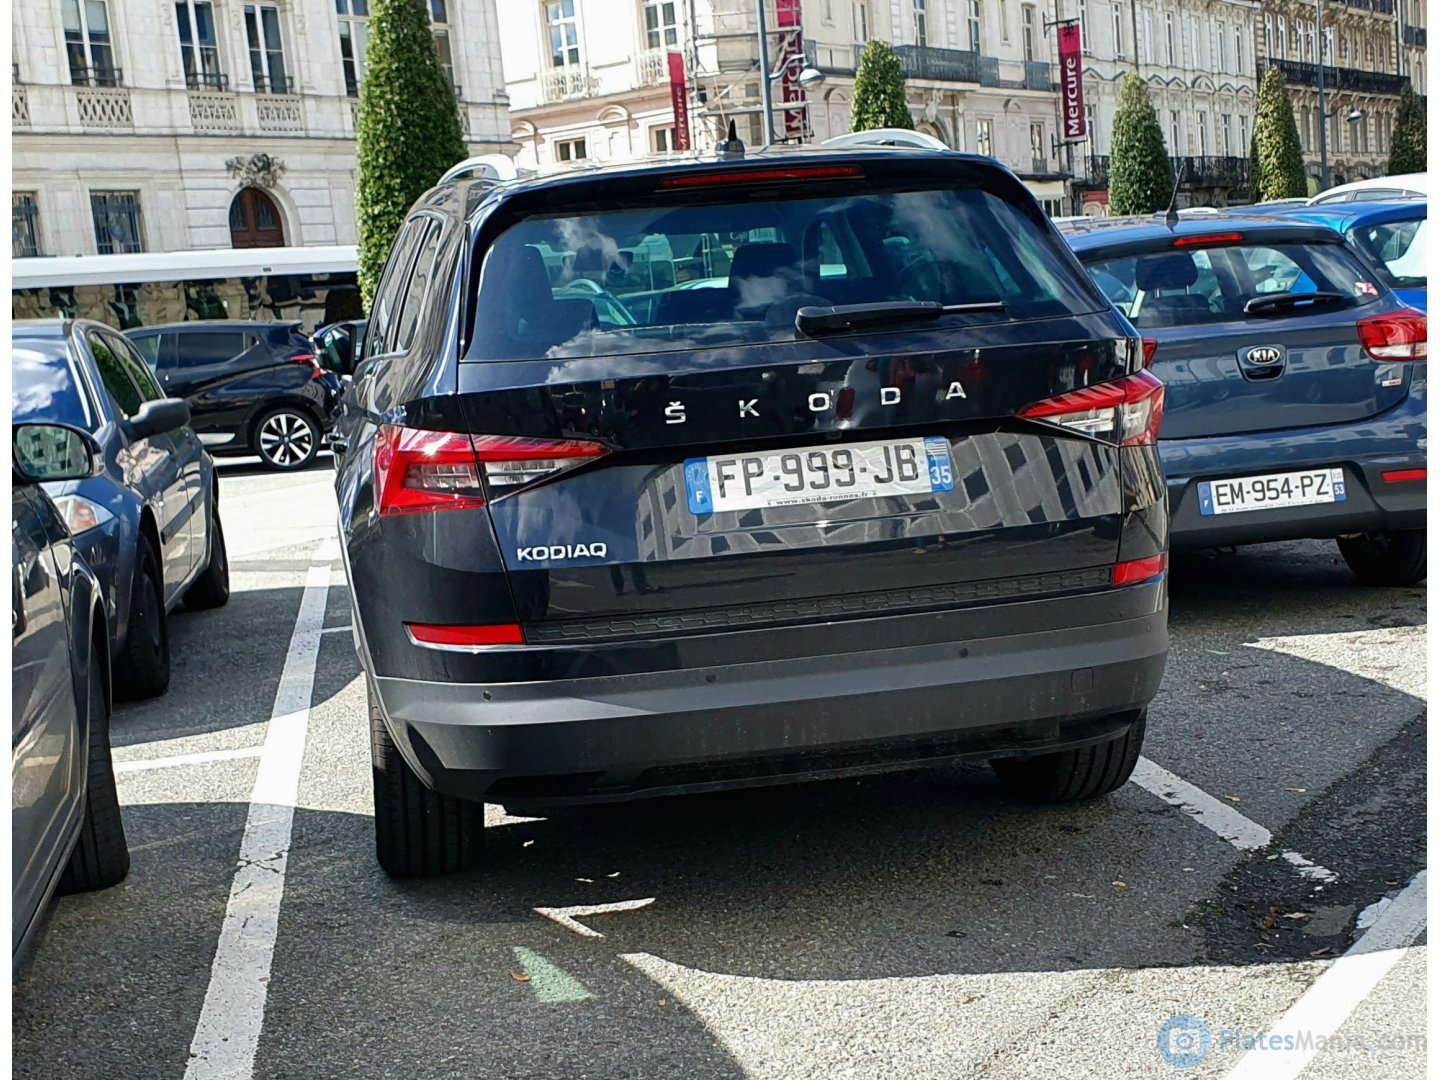licence plate: (681, 430, 958, 522)
